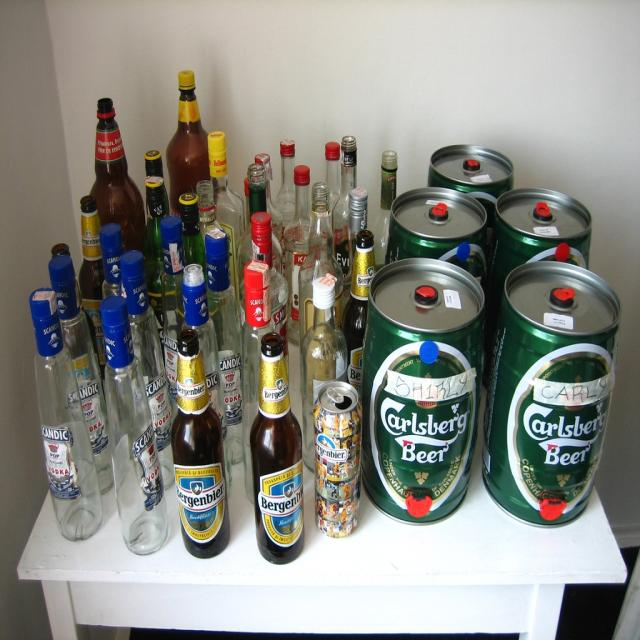carlsberg: (375, 389, 472, 505), (516, 394, 612, 505)
